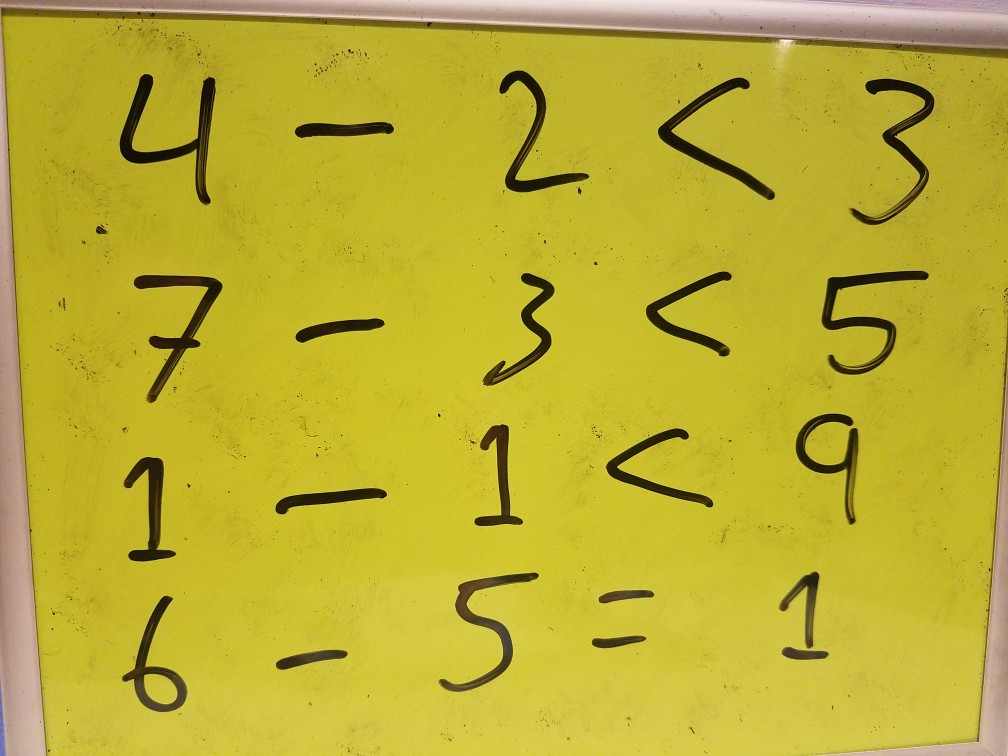-: (239, 452, 400, 536), (276, 294, 404, 363), (286, 91, 401, 166), (256, 633, 364, 683)
1: (758, 562, 851, 679), (109, 441, 192, 571), (456, 417, 540, 544)
2: (471, 51, 601, 212)
3: (833, 70, 942, 234), (462, 257, 559, 394)
4: (106, 51, 230, 218)
5: (423, 564, 554, 720), (805, 257, 939, 386)
6: (106, 592, 205, 724)
7: (111, 257, 230, 410)
9: (785, 403, 876, 545)
<: (650, 59, 804, 227), (629, 259, 762, 393), (592, 417, 724, 526)
=: (585, 576, 670, 668)
